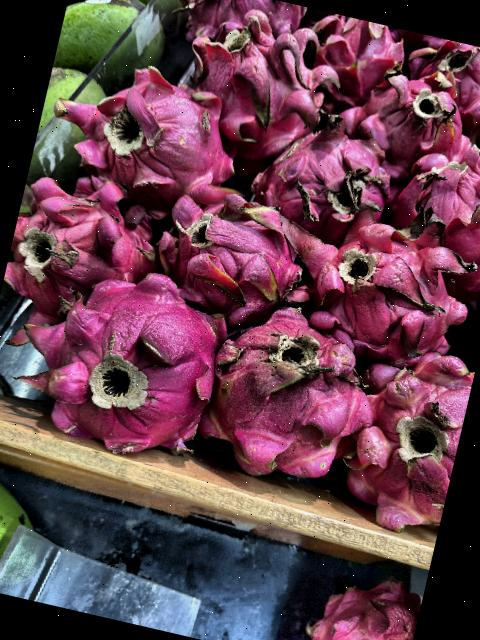buah-naga-matang: (31, 258, 236, 472), (189, 292, 386, 494), (281, 204, 480, 366), (58, 54, 252, 216), (0, 152, 167, 329), (331, 336, 477, 528), (145, 165, 314, 324), (167, 12, 330, 156), (248, 97, 400, 240), (348, 71, 480, 194), (379, 135, 480, 286), (302, 10, 411, 109), (397, 33, 480, 141), (174, 0, 306, 47)
